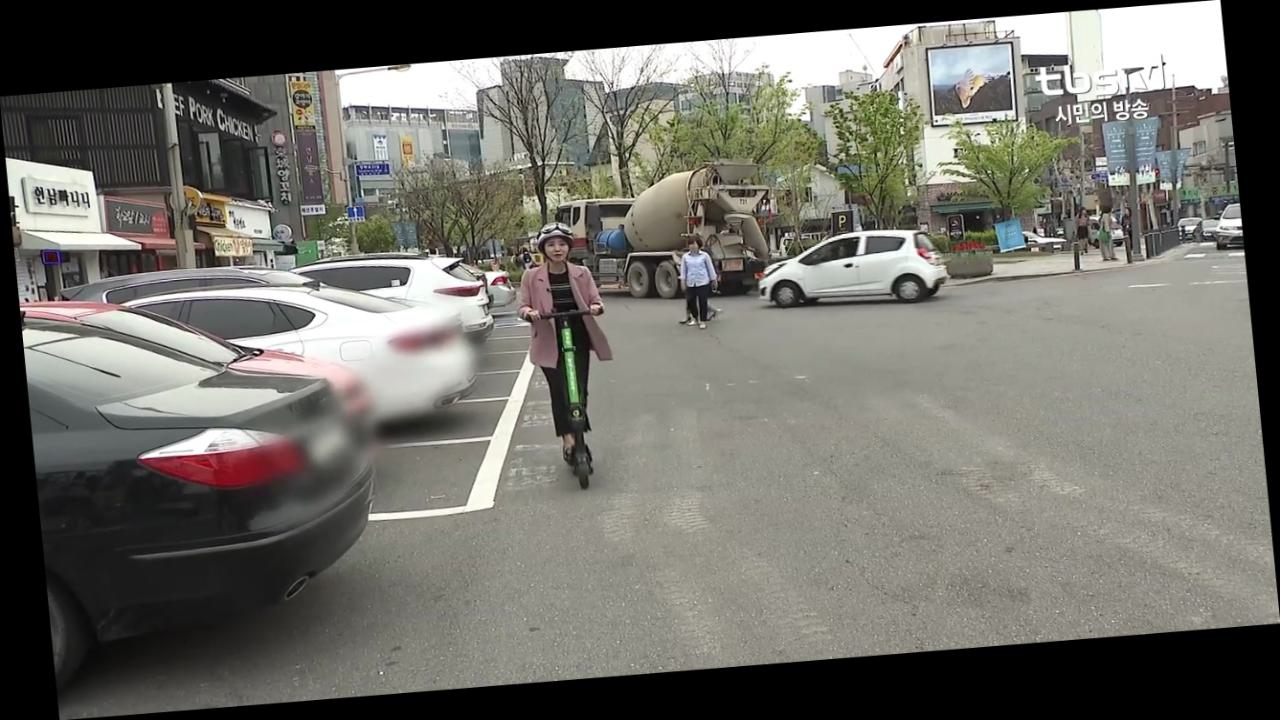helmet: (506, 214, 633, 496)
